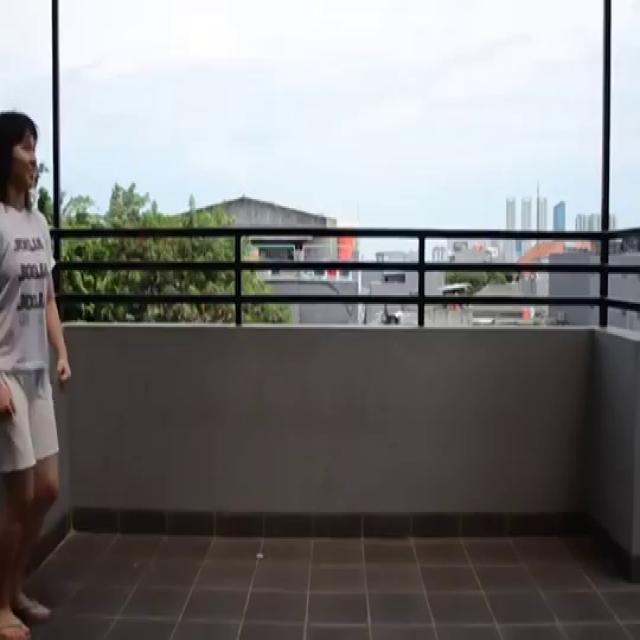normal: (1, 103, 87, 640)
